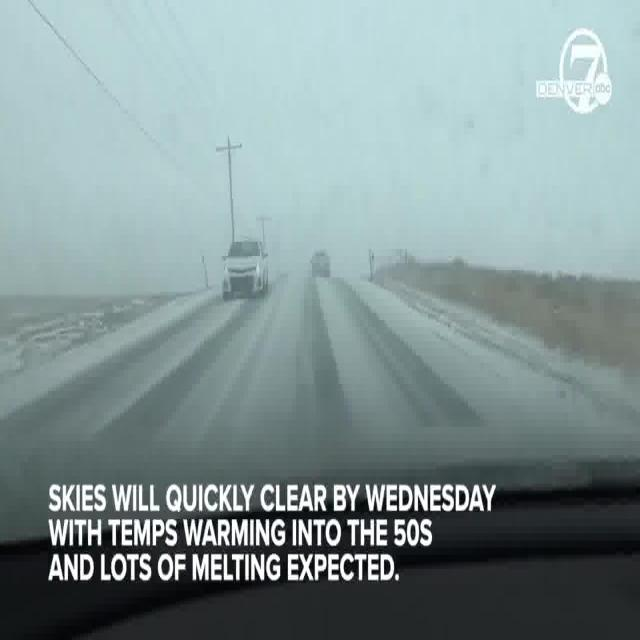Car: (220, 224, 272, 346), (304, 206, 341, 288)
